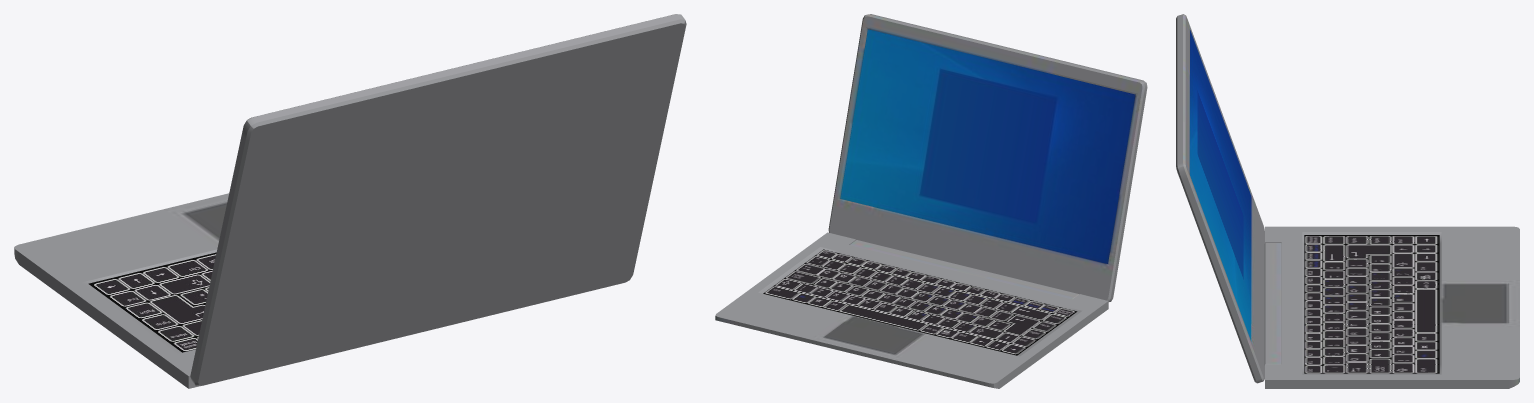
File: laptop.glb
The picture shows the model from 3 angles, left to right: view 1: azimuth 30°, elevation 25°; view 2: azimuth 150°, elevation 25°; view 3: azimuth 270°, elevation 25°; orthographic projection. The views are drawn at different scales.
Parts seen in each view (by area): view 1: Laptop; view 2: Laptop; view 3: Laptop.
Part boxes in pixels (box(x1,y1,x2,y2)): Laptop: box(14, 14, 686, 388); Laptop: box(715, 14, 1147, 388); Laptop: box(1176, 14, 1519, 388).
Size of the model in its own units: 0.5752 by 0.3904 by 0.5435.
1 material, 1 textured.
